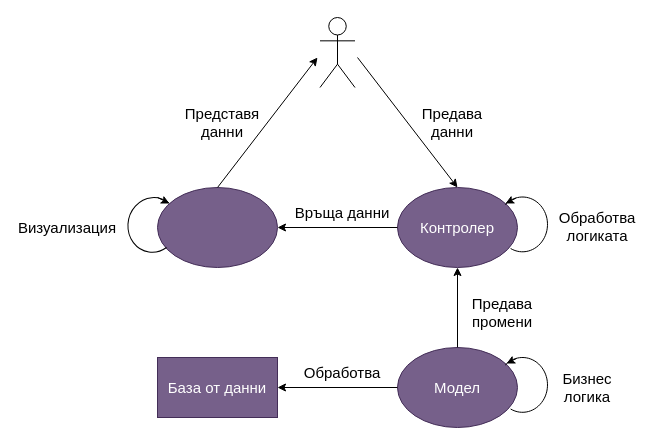
Image size: 664x445. Some labels were removed from this diagram. The centre of each missing label's shape, as x and y in pixels:
Изглед: the point at 217,227
Потребител: the point at 337,52
